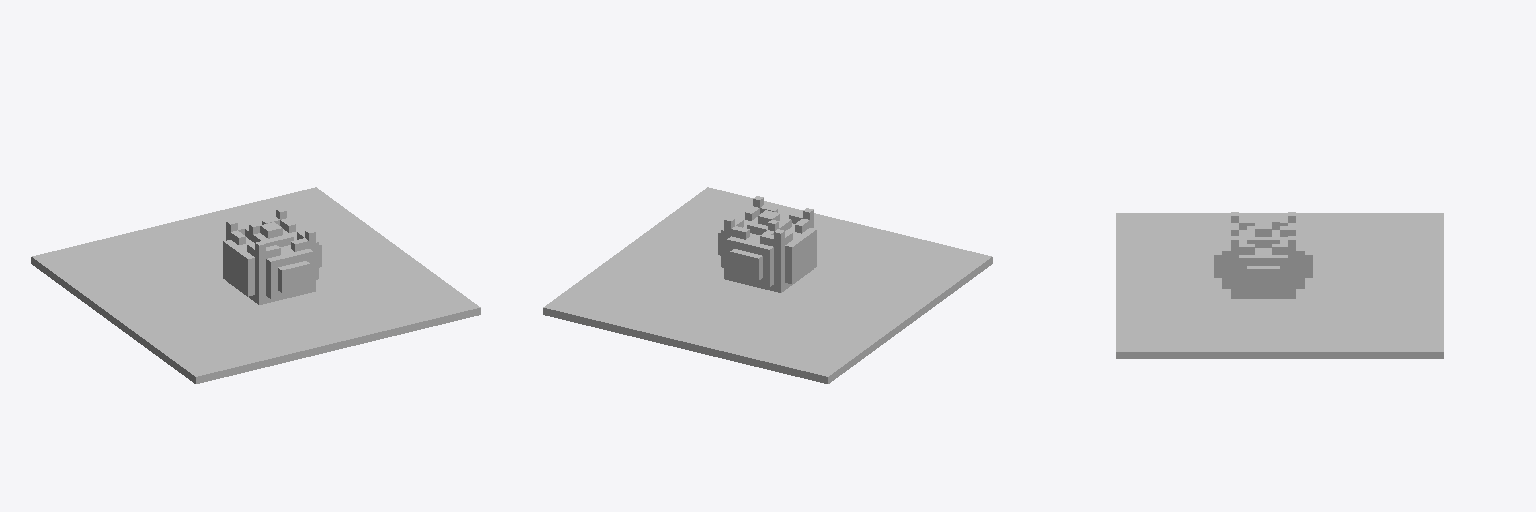
Rendered from Couve flor.obj.
The picture shows the model from 3 angles: view 1: azimuth 30°, elevation 25°; view 2: azimuth 150°, elevation 25°; view 3: azimuth 270°, elevation 25°; orthographic projection.
Parts seen in each view (by area): view 1: object 1; view 2: object 1; view 3: object 1.
Boxes of the visible parts, box(x1,y1,x2,y2) form: object 1: box(31, 187, 480, 383); object 1: box(543, 187, 992, 383); object 1: box(1116, 212, 1443, 358).
Bounding box in the file's own units: 4 × 0.9 × 4.